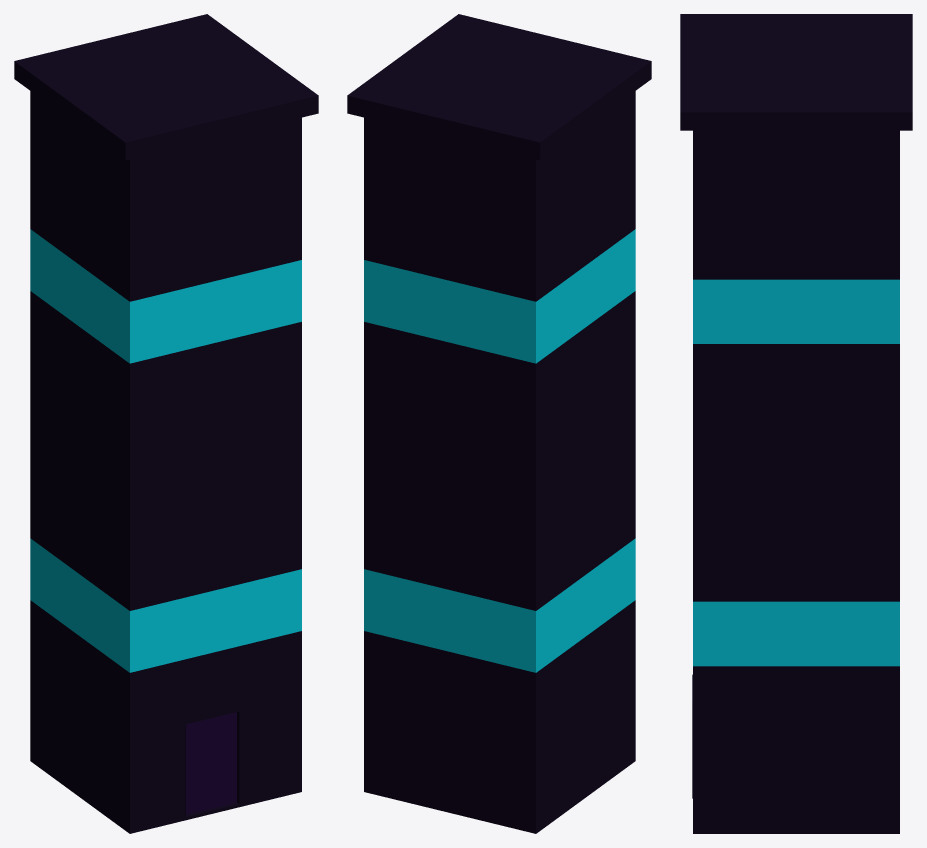
The model's file is Oscuro Edificio 2.glb.
The picture shows the model from 3 angles, left to right: view 1: azimuth 30°, elevation 25°; view 2: azimuth 150°, elevation 25°; view 3: azimuth 270°, elevation 25°; orthographic projection. The views are drawn at different scales.
Visible parts, largest first — view 1: Cube.006; view 2: Cube.006; view 3: Cube.006.
Boxes of the visible parts, x1,y1,x2,y2 form: Cube.006: [14, 14, 318, 833]; Cube.006: [347, 14, 651, 833]; Cube.006: [680, 14, 912, 833].
Bounding box in the file's own units: 16.34 × 56.43 × 16.34.
